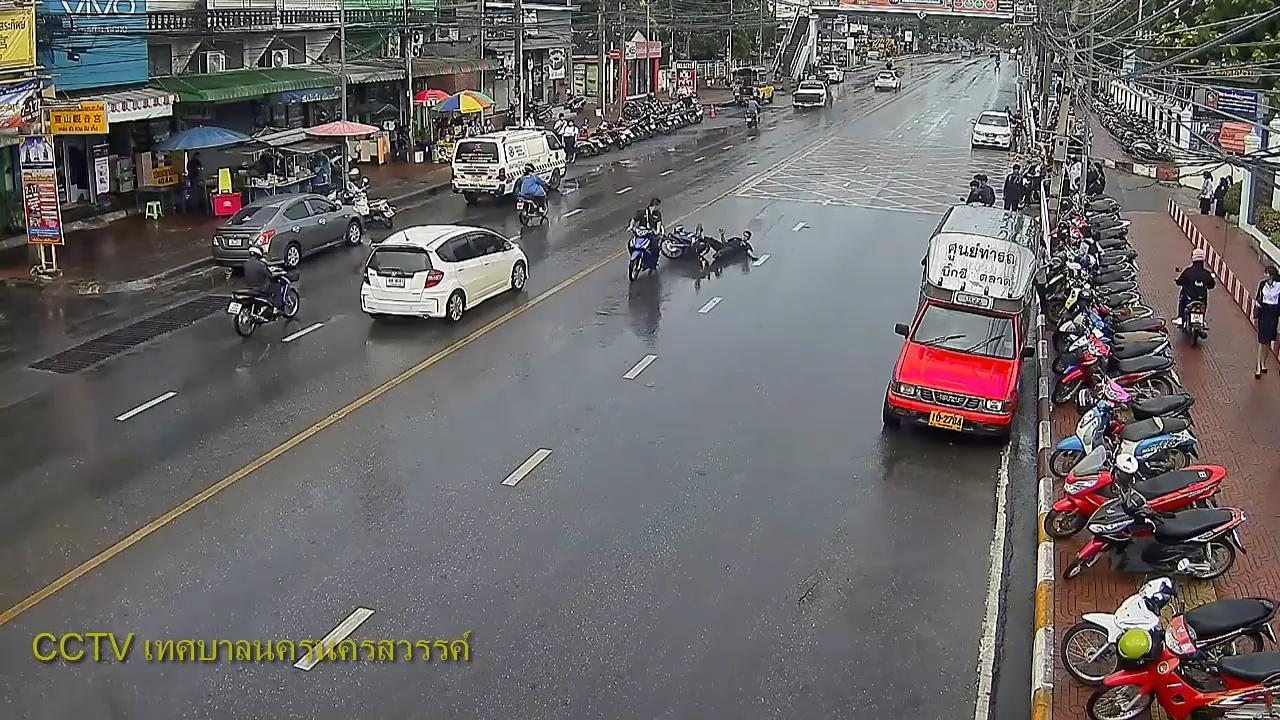accident: (696, 221, 759, 270)
